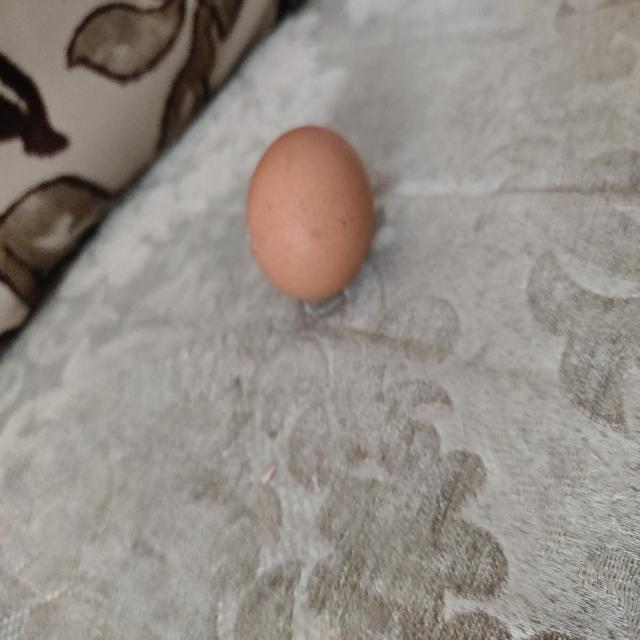egg: (244, 124, 378, 306)
